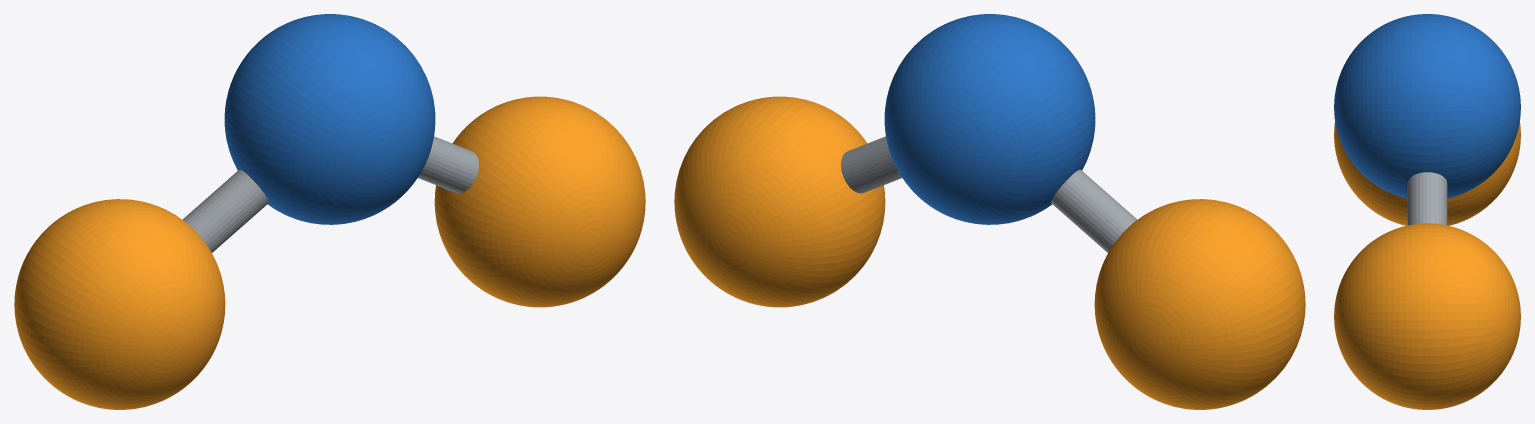
File: nitrogen_dioxide.glb
The picture shows the model from 3 angles, left to right: view 1: azimuth 30°, elevation 25°; view 2: azimuth 150°, elevation 25°; view 3: azimuth 270°, elevation 25°; orthographic projection. The views are drawn at different scales.
Visible parts, largest first — view 1: Oxygen_O_Left, Nitrogen_N, Oxygen_O_Right, N-O_Bond_Left, N-O_Bond_Right; view 2: Oxygen_O_Left, Nitrogen_N, Oxygen_O_Right, N-O_Bond_Left, N-O_Bond_Right; view 3: Oxygen_O_Right, Nitrogen_N, Oxygen_O_Left, N-O_Bond_Right.
Part boxes in pixels (x1,y1,x2,y2): Oxygen_O_Left: (14,199,225,409); Nitrogen_N: (224,14,435,224); Oxygen_O_Right: (434,96,645,307); N-O_Bond_Left: (182,169,268,252); N-O_Bond_Right: (418,136,478,193); Oxygen_O_Left: (1094,199,1305,409); Nitrogen_N: (884,14,1095,224); Oxygen_O_Right: (674,96,885,307); N-O_Bond_Left: (1051,169,1137,252); N-O_Bond_Right: (841,136,901,193); Oxygen_O_Right: (1334,223,1520,409); Nitrogen_N: (1334,14,1520,198); Oxygen_O_Left: (1334,121,1520,225); N-O_Bond_Right: (1407,172,1447,225).
Size of the model in its own units: 2.64 by 1.36 by 0.8.
